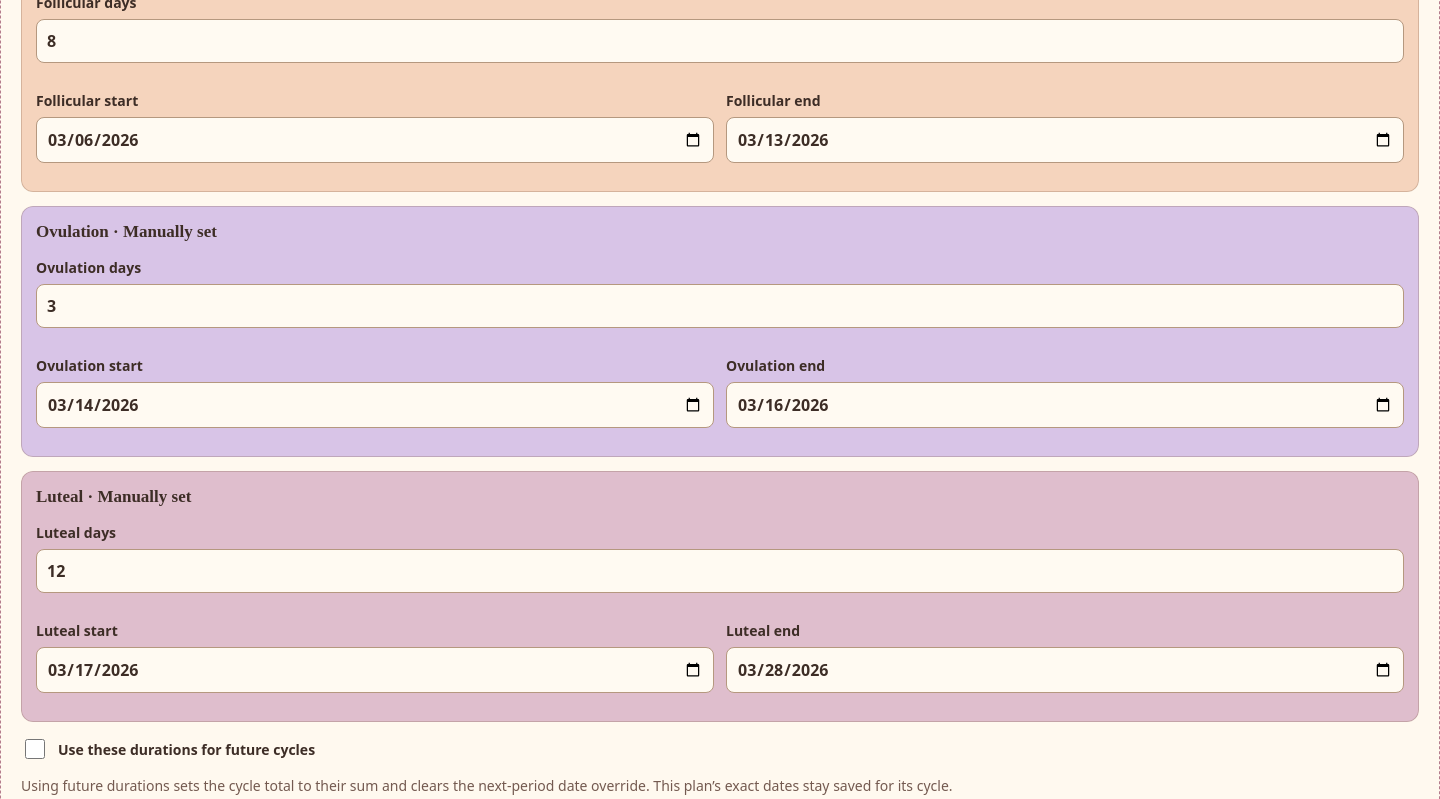
Scenario: phase editor and automatic prediction controls › shows validation for overlaps and handles cleared date inputs without crashing
The width and height of the screenshot is (1440, 799).
(page scrolled)
Clear the date field labelled "Ovulation start" at (375, 405), box [36,382,714,428]
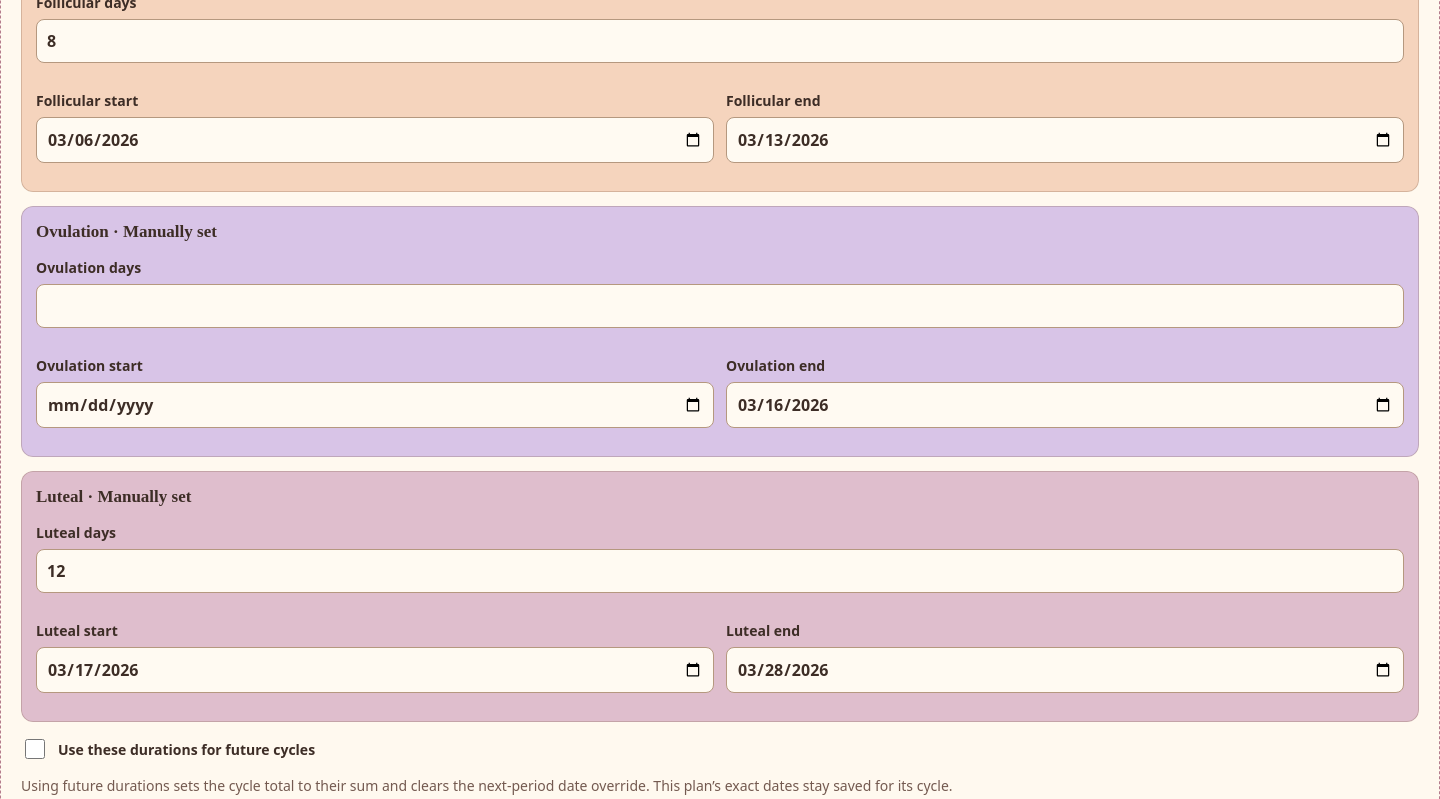
expect the number field labelled "Ovulation days" is empty: met, box [36,284,1404,328]
Type "2026-03-01" into the date field labelled "Ovulation start" at (375, 405), box [36,382,714,428]
(page scrolled)
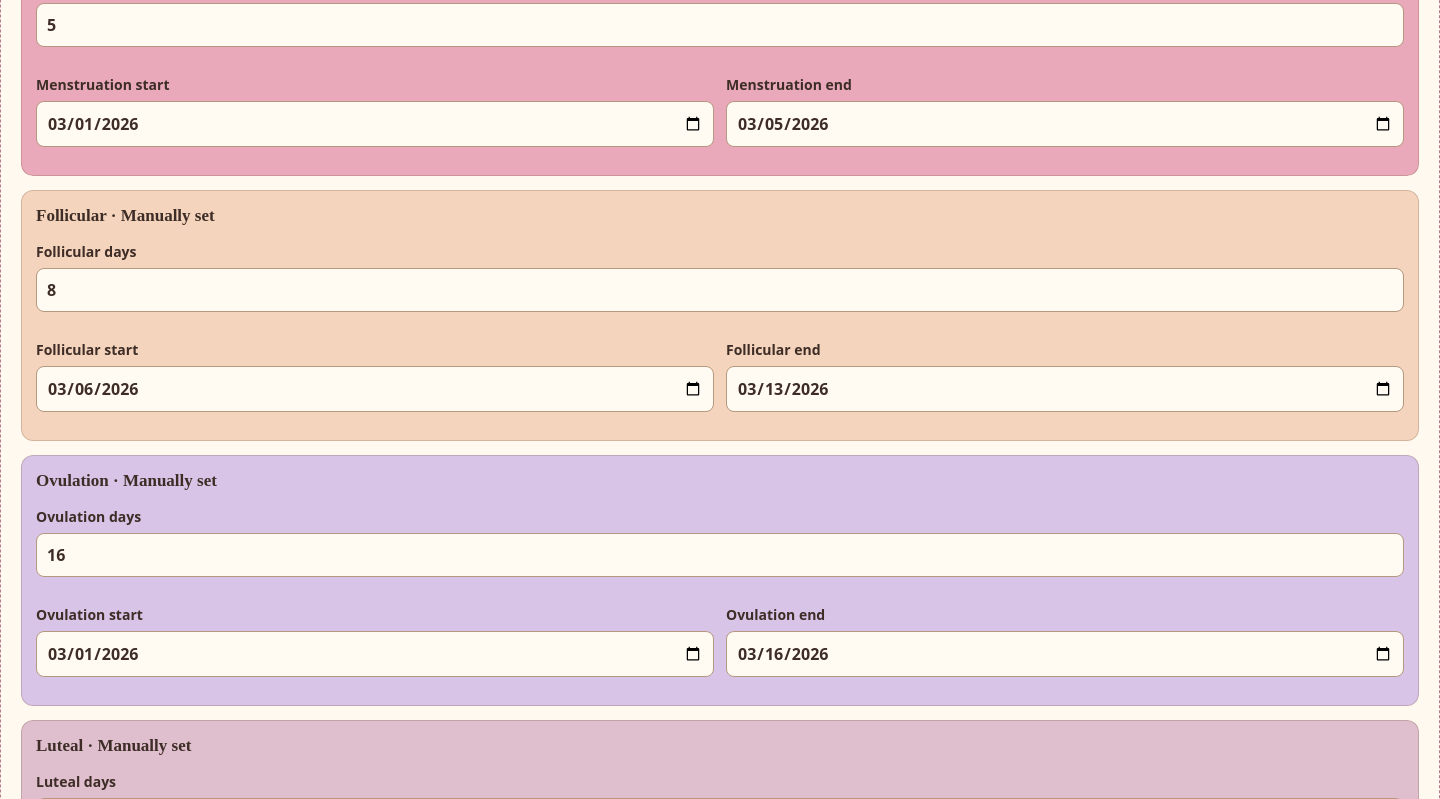
Submit the form named "Save phases"
(page scrolled)
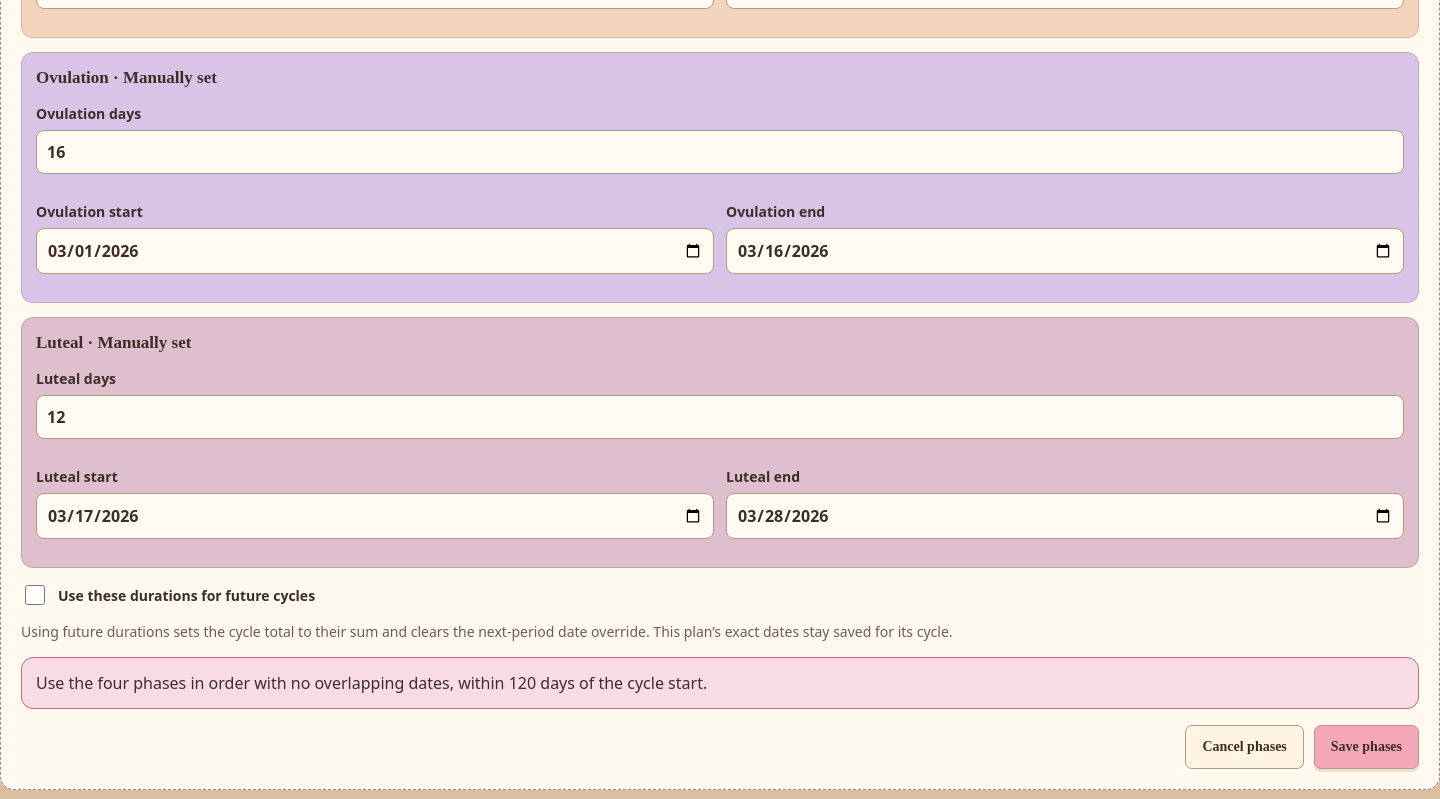
expect the message shows "no overlapping dates": met, box [36,672,707,694]
